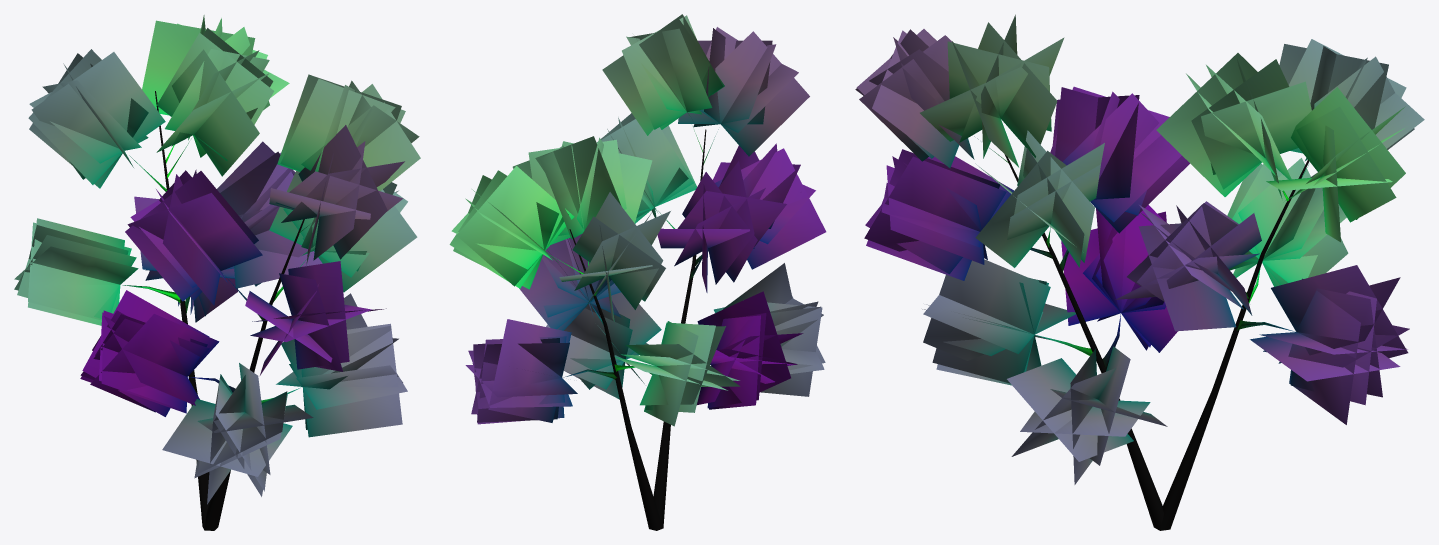
The model's file is URP_P6_Tree_5_LOD_3.fbx.
3 views of the same model, side by side, from view 1: azimuth 30°, elevation 25°; view 2: azimuth 150°, elevation 25°; view 3: azimuth 270°, elevation 25° (orthographic). The views are drawn at different scales.
Visible parts, largest first — view 1: Tree_5_LOD_3; view 2: Tree_5_LOD_3; view 3: Tree_5_LOD_3.
Part boxes in pixels (x1=…): Tree_5_LOD_3: x1=14, y1=15, x2=420, y2=530; Tree_5_LOD_3: x1=449, y1=14, x2=826, y2=530; Tree_5_LOD_3: x1=855, y1=14, x2=1424, y2=530.
Bounding box in the file's own units: 533 × 848 × 818.
